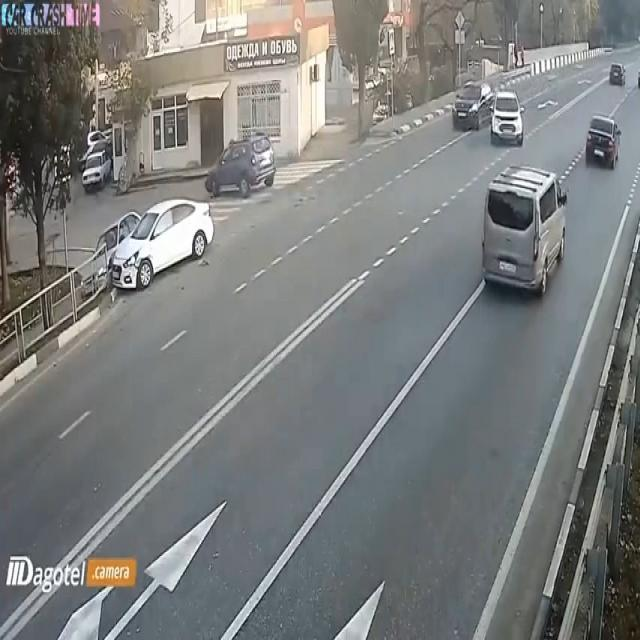Accident: (85, 205, 213, 298)
